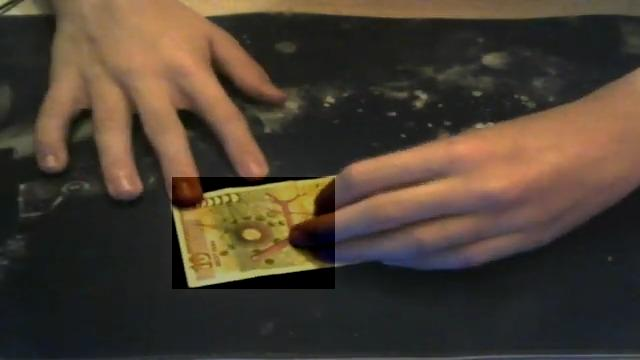10leva: (172, 177, 335, 289)
